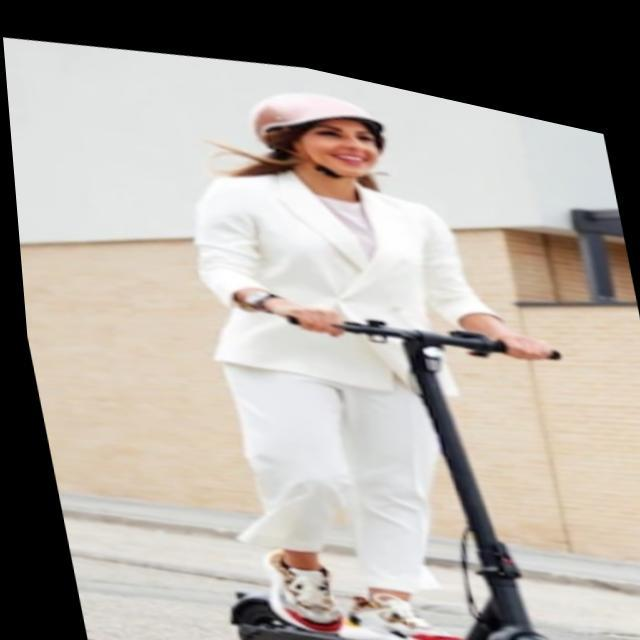Helmet: (242, 76, 395, 196)
